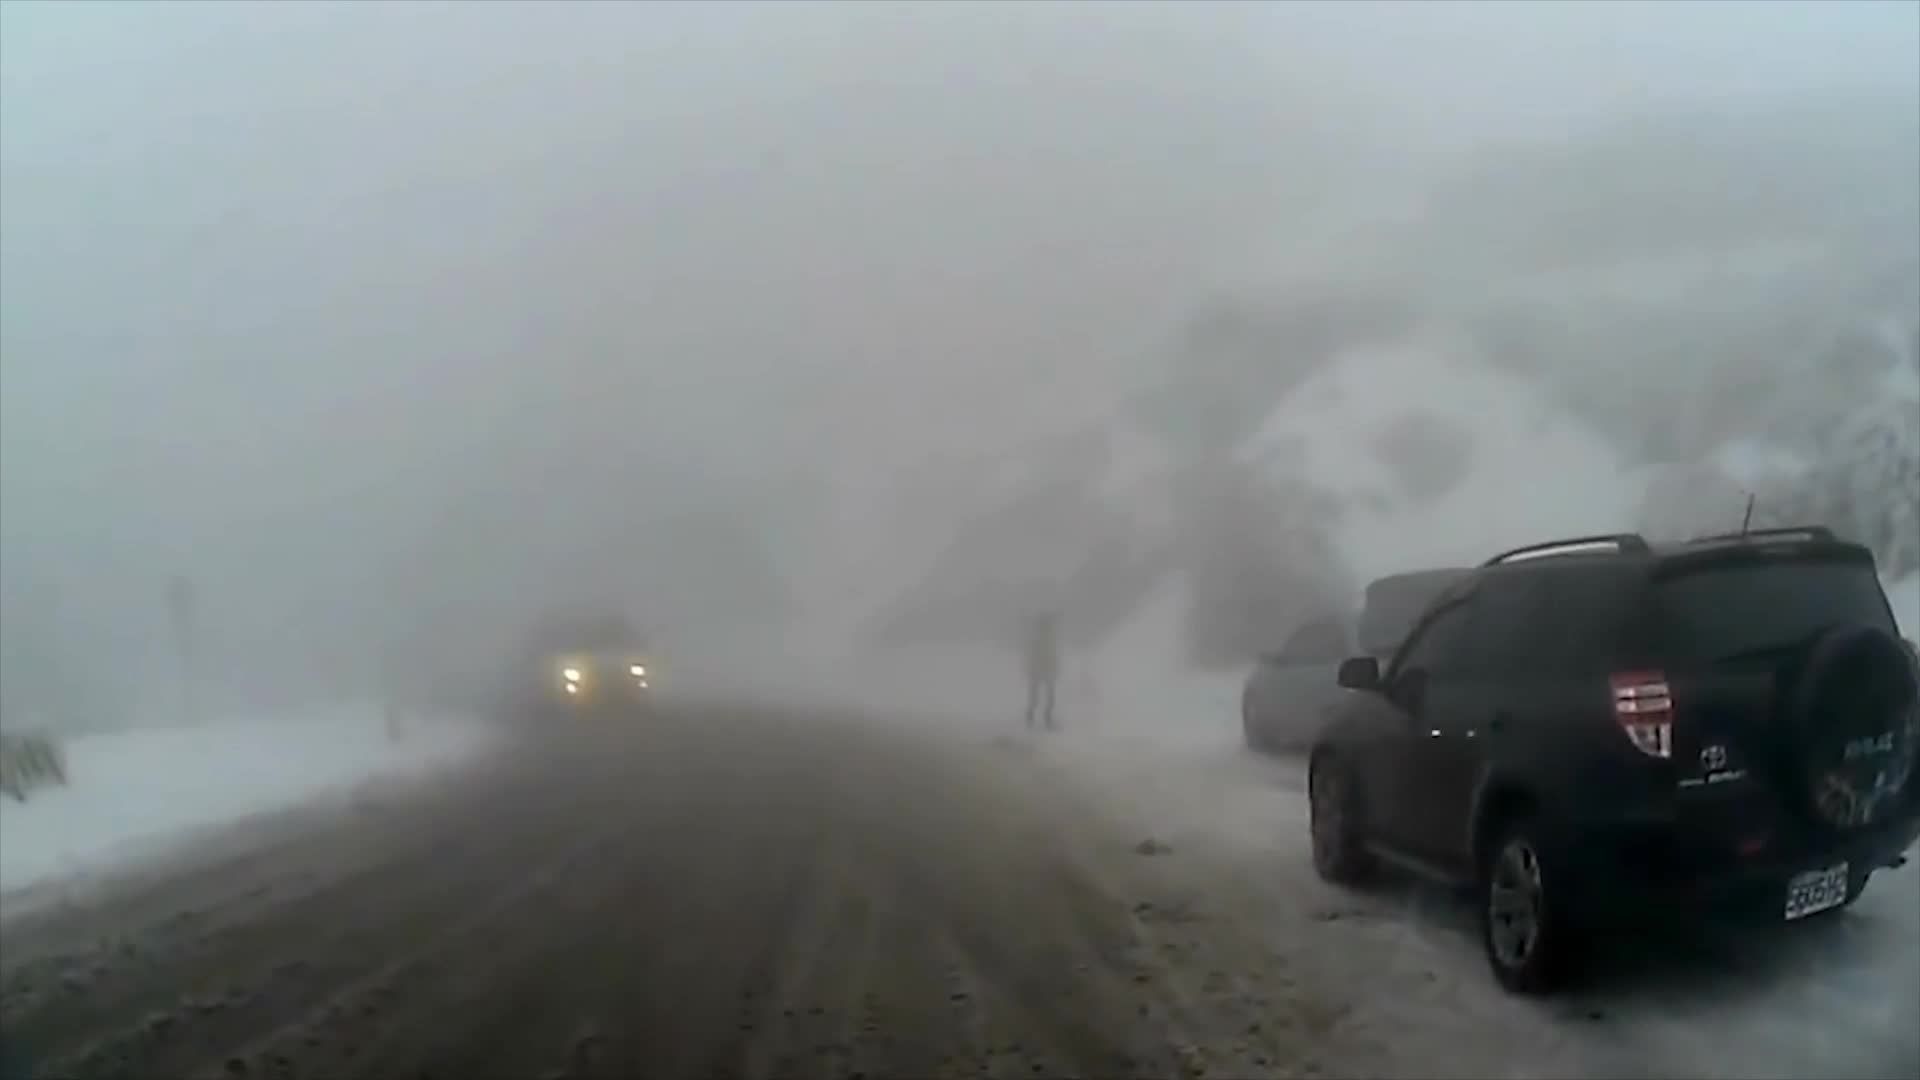pedestrian: (1020, 615, 1063, 728)
vehicle: (1305, 521, 1918, 1002), (1240, 557, 1554, 768), (525, 606, 658, 723)
